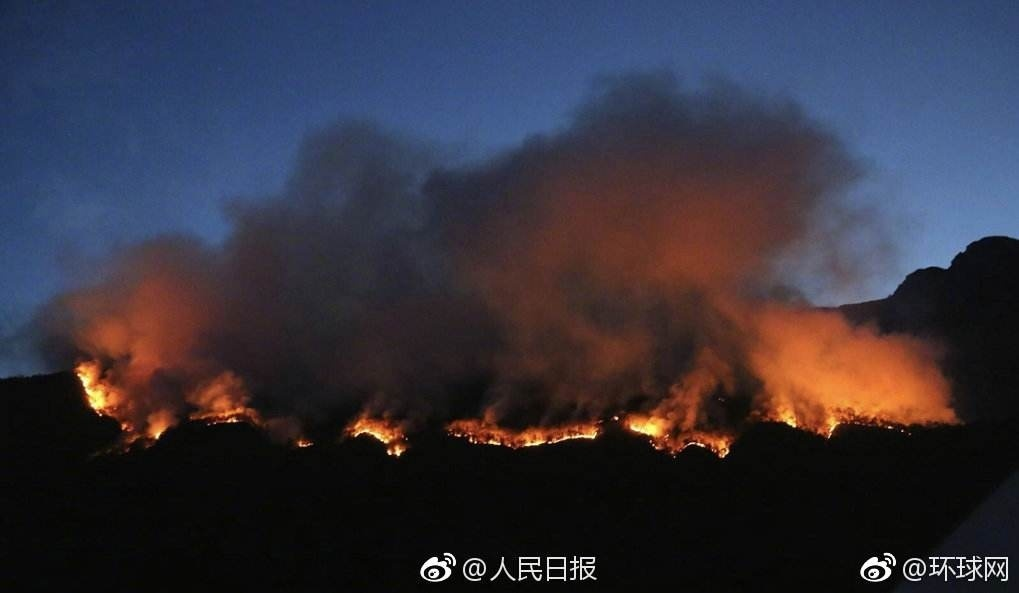fire: (452, 415, 611, 451), (76, 361, 128, 431), (195, 382, 255, 427), (345, 412, 406, 456)
